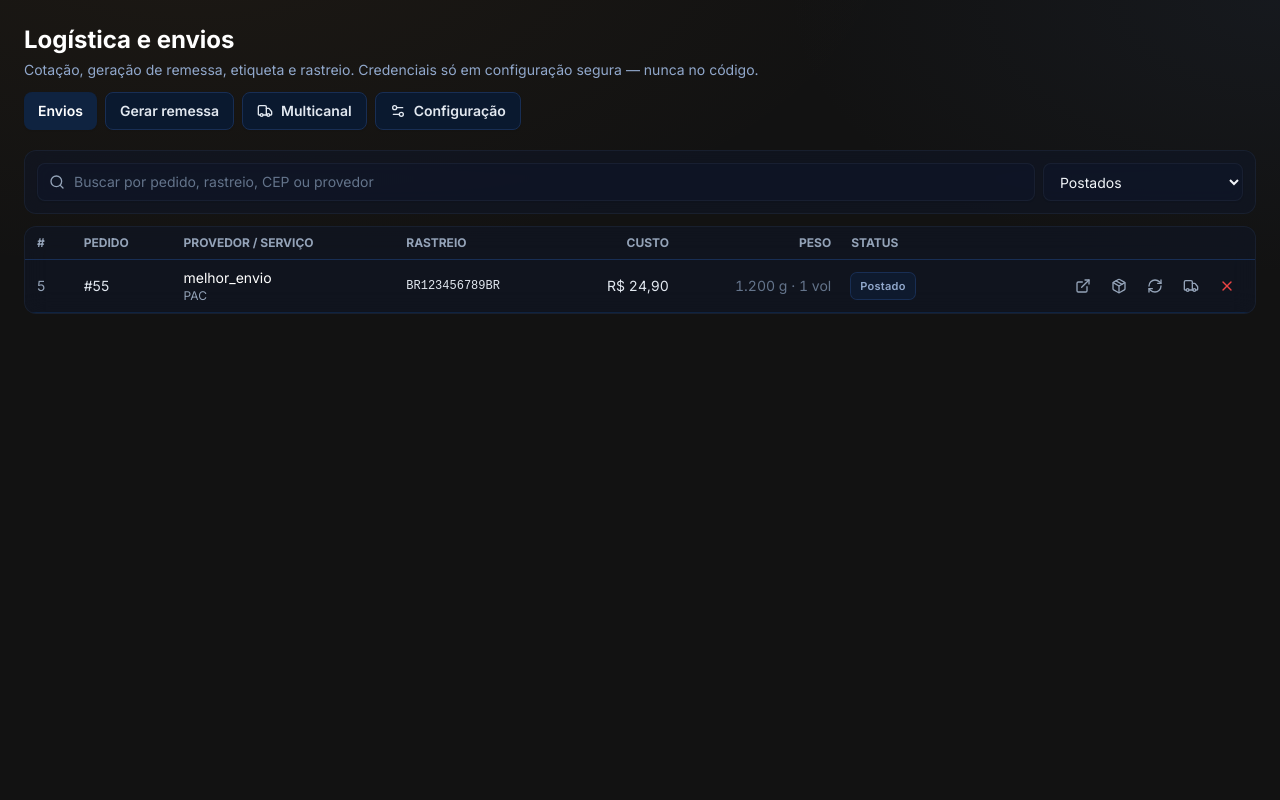
Test: Logística — tela › a tela nunca mostra o token inteiro — só o valor mascarado do servidor
Click the button "Configuração": click(448, 111) [375, 92, 521, 130]
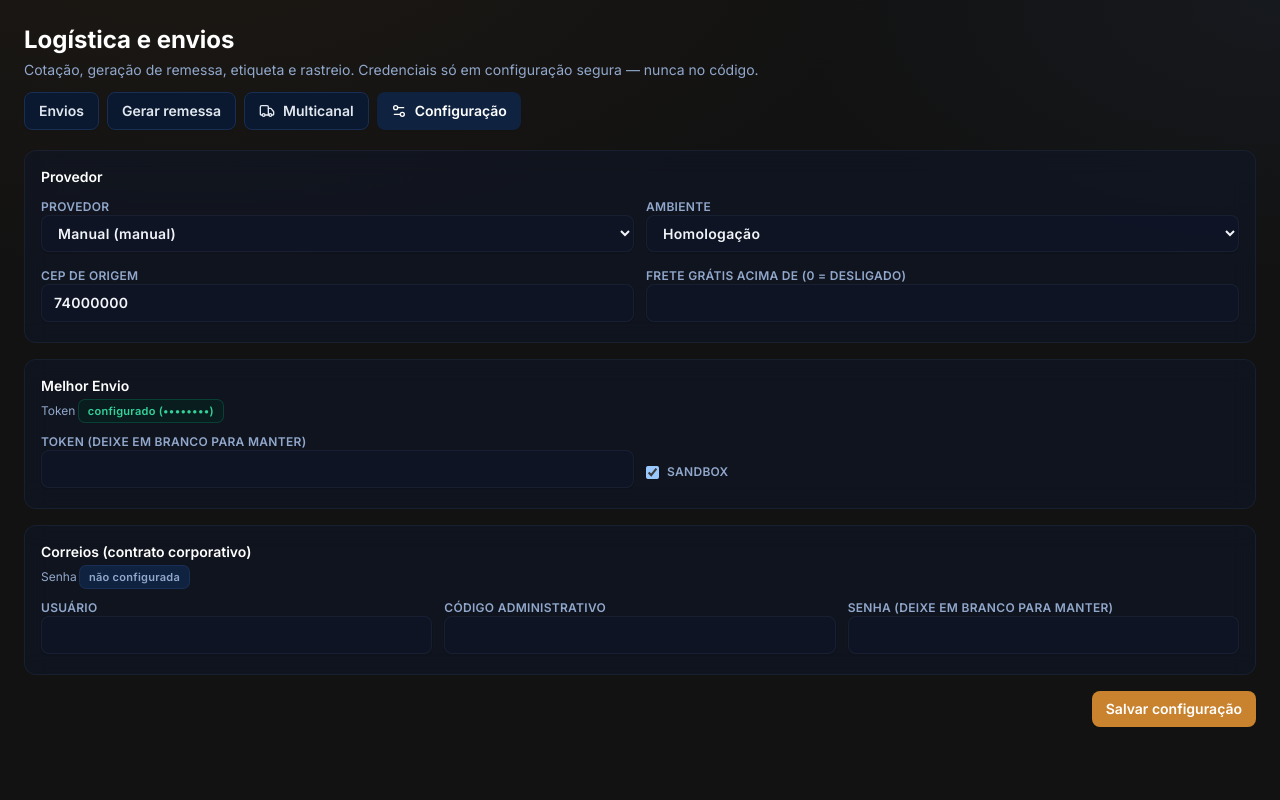
Expected: the text "configurado (••••••••)" is shown, [79, 400, 223, 422]
